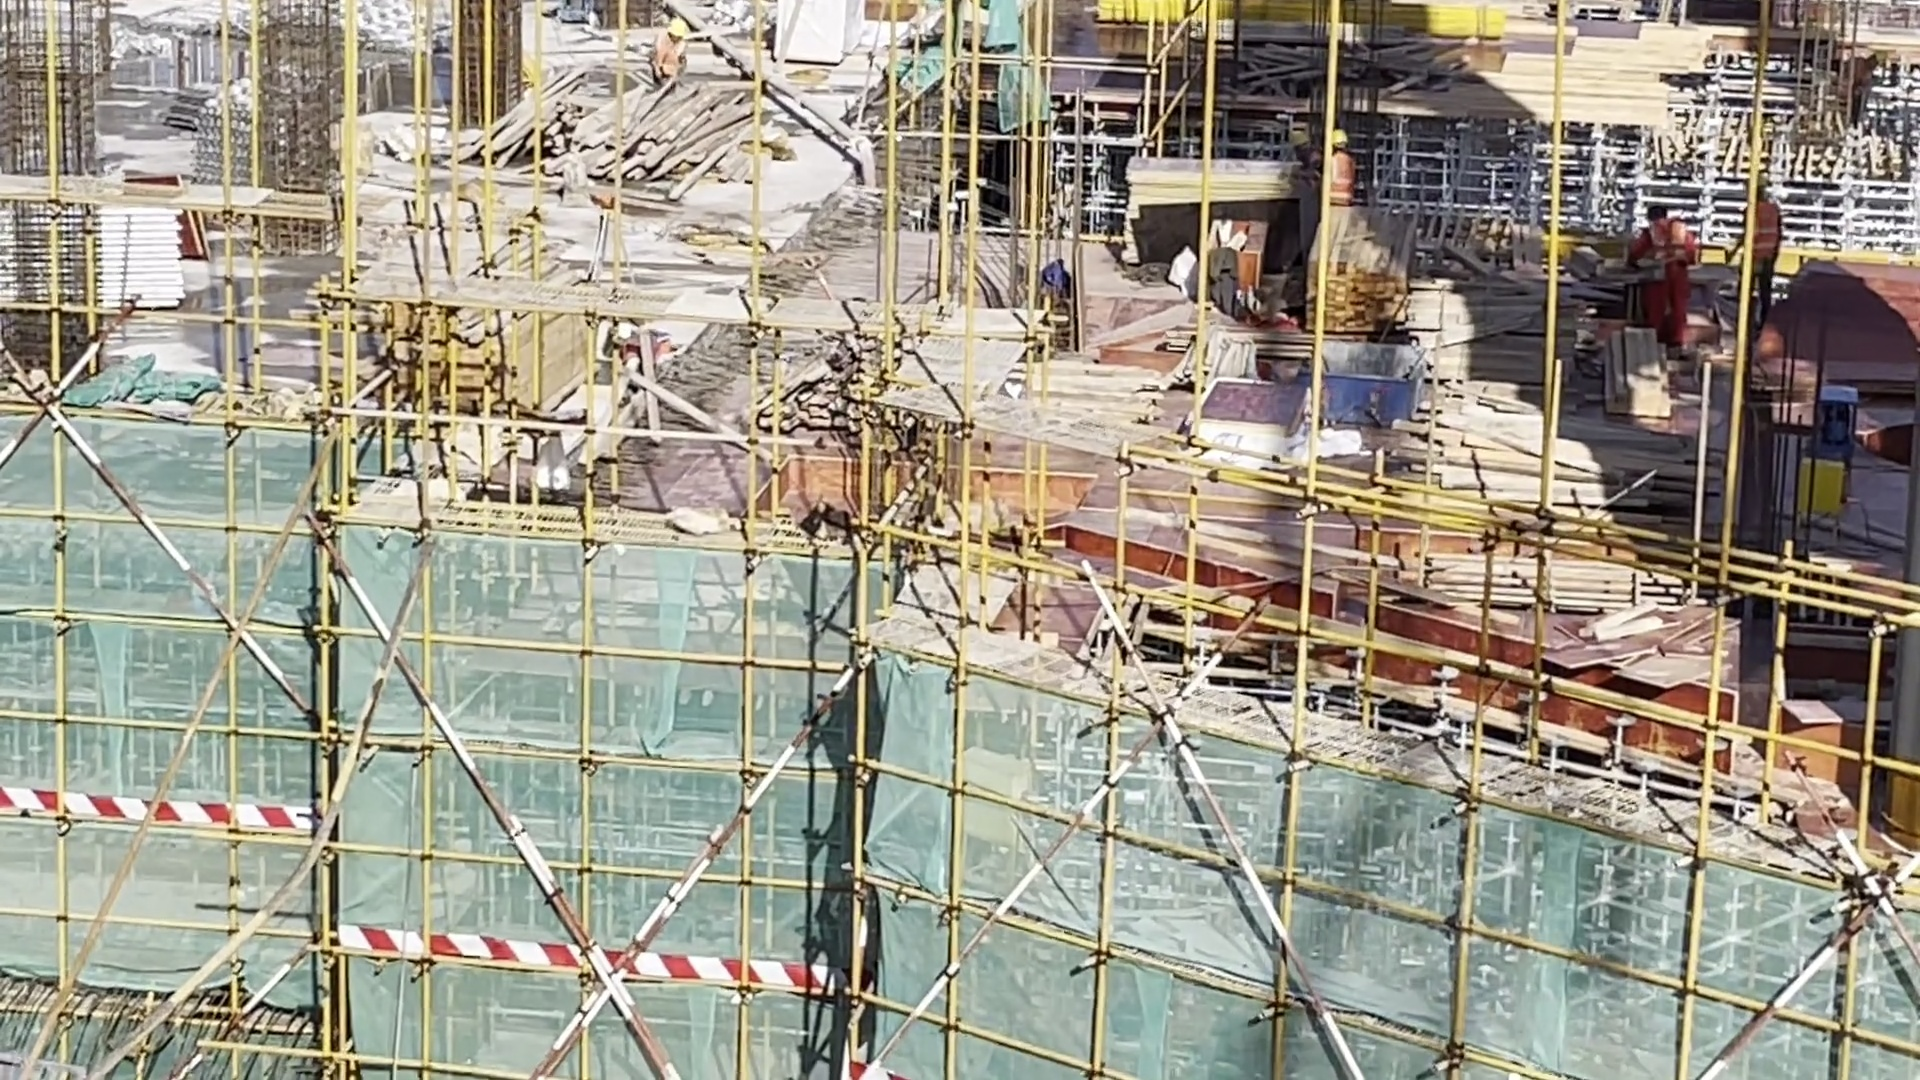board: (1549, 594, 1744, 709)
ebox: (1782, 461, 1841, 542)
helmet: (659, 15, 691, 44), (607, 320, 634, 346), (1644, 197, 1668, 222), (1328, 126, 1346, 148), (1290, 128, 1309, 144)
hopper: (1299, 326, 1456, 442)
person: (1639, 194, 1688, 335), (1742, 177, 1782, 300), (599, 322, 676, 383), (643, 18, 692, 77), (1322, 127, 1357, 208), (1287, 132, 1325, 182)
scaffold: (1, 188, 207, 312), (184, 96, 259, 190)
vest: (1744, 201, 1778, 265), (1649, 227, 1685, 279), (1328, 155, 1351, 195), (653, 44, 681, 76)
wood: (323, 218, 581, 423), (470, 78, 766, 205), (1410, 383, 1611, 522), (1284, 202, 1454, 330), (1425, 553, 1680, 629)
